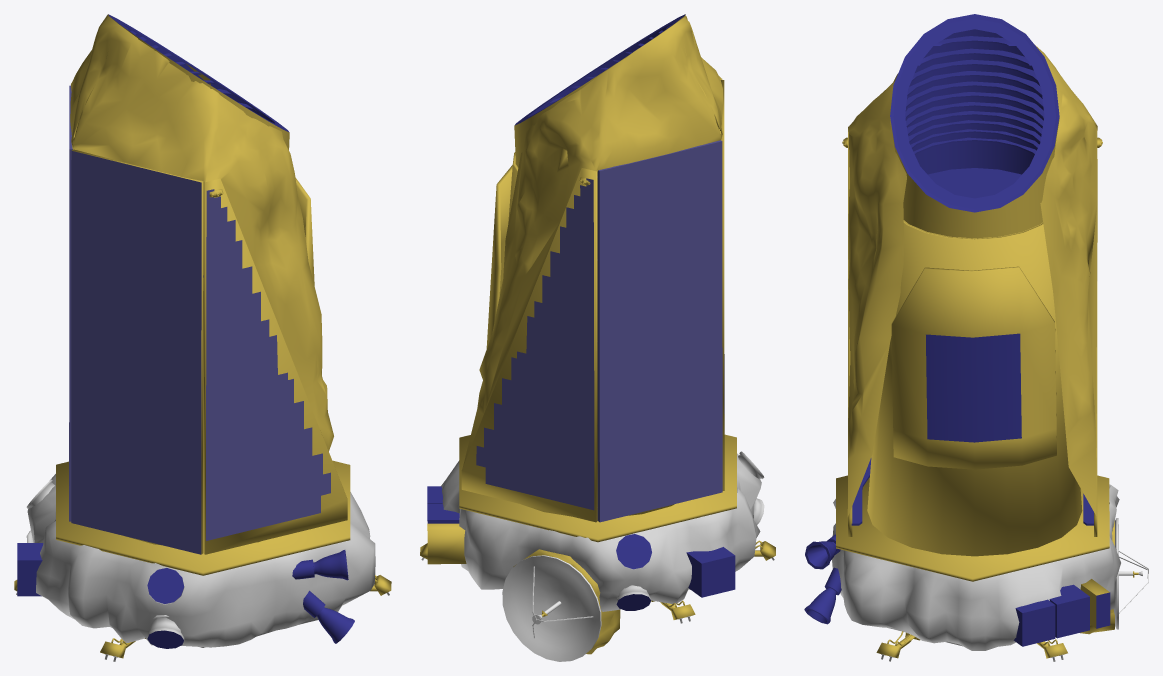
Rendered from Kepler space observatory.glb.
3 views of the same model, side by side, from view 1: azimuth 30°, elevation 25°; view 2: azimuth 150°, elevation 25°; view 3: azimuth 270°, elevation 25° (orthographic). The views are drawn at different scales.
Visible parts, largest first — view 1: shiny_panel, foil_gold, foil_silver, tex_01, tex_01.001; view 2: shiny_panel, foil_gold, foil_silver, dish_AO, tex_01, tex_01.001; view 3: foil_gold, tex_01, tex_01.001, foil_silver, dish_AO.
Part boxes in pixels (<box>): shiny_panel: <box>69,85,330,554</box>; foil_gold: <box>14,14,391,658</box>; foil_silver: <box>16,474,389,661</box>; tex_01: <box>17,14,354,648</box>; tex_01.001: <box>112,17,285,130</box>; shiny_panel: <box>476,140,724,522</box>; foil_gold: <box>420,14,775,654</box>; foil_silver: <box>421,451,774,623</box>; dish_AO: <box>502,555,601,661</box>; tex_01: <box>427,14,735,610</box>; tex_01.001: <box>518,17,681,123</box>; foil_gold: <box>836,44,1138,658</box>; tex_01: <box>804,14,1110,646</box>; tex_01.001: <box>893,18,1056,208</box>; foil_silver: <box>832,484,1120,661</box>; dish_AO: <box>1113,518,1148,629</box>.
Bounding box in the file's own units: 2.52 × 4.76 × 2.53.
